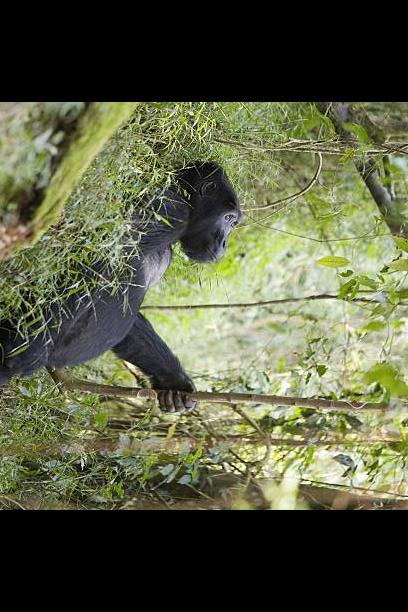goriile_montagne: (0, 162, 246, 424)
